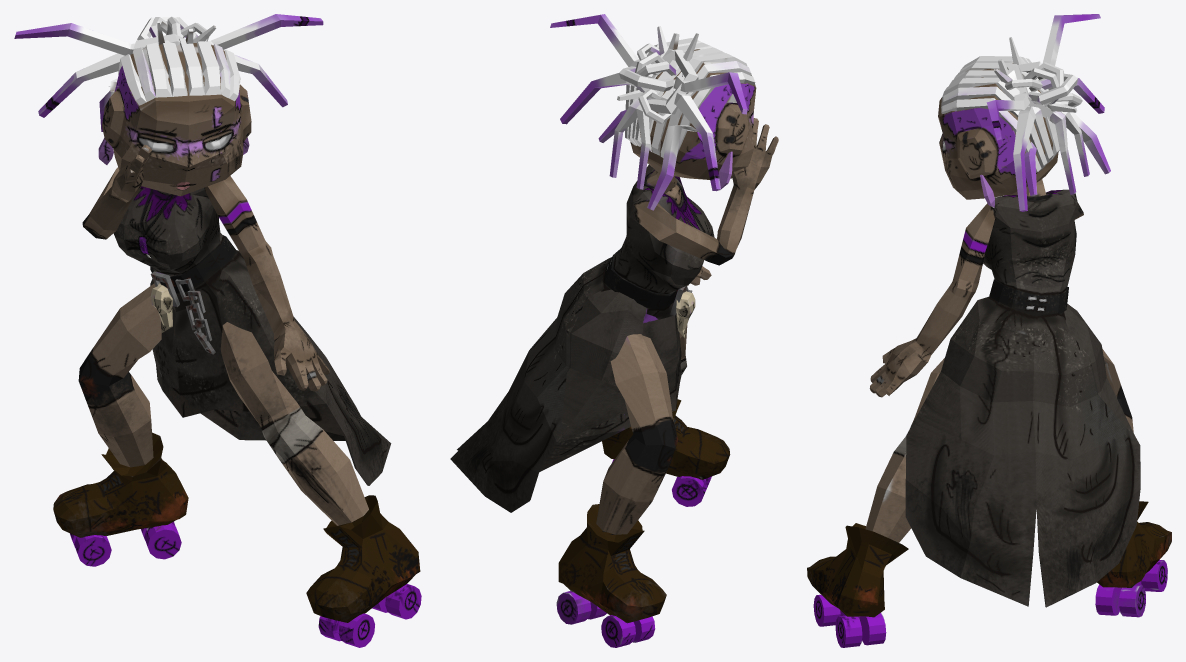
File: bruja_000021.obj
3 renders of one model, left to right at view 1: azimuth 30°, elevation 25°; view 2: azimuth 150°, elevation 25°; view 3: azimuth 270°, elevation 25°, orthographic. The views are drawn at different scales.
Parts seen in each view (by area): view 1: Bruja_Plane.001; view 2: Bruja_Plane.001; view 3: Bruja_Plane.001.
Boxes of the visible parts, left/top/right/bottom form: Bruja_Plane.001: left=14, top=14, right=421, bottom=647; Bruja_Plane.001: left=450, top=14, right=778, bottom=647; Bruja_Plane.001: left=807, top=14, right=1171, bottom=647.
Bounding box in the file's own units: 9.34 × 15.44 × 9.24.
